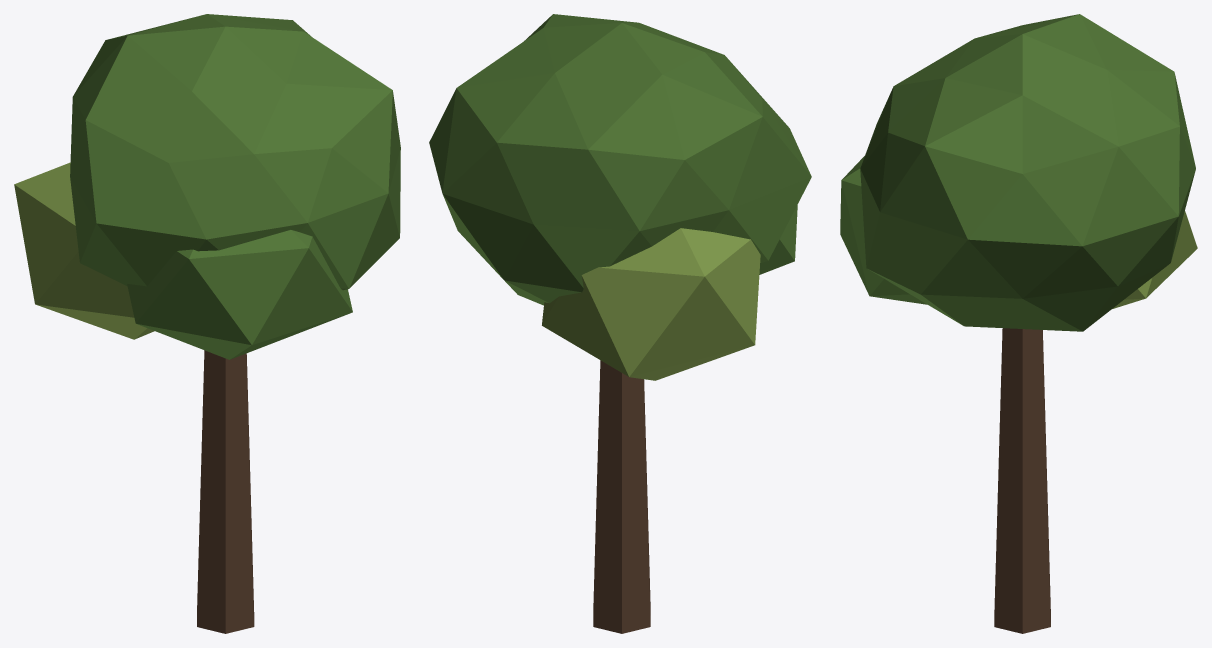
The model's file is Scenery_Broadleaf_B.fbx.
3 renders of one model, left to right at view 1: azimuth 30°, elevation 25°; view 2: azimuth 150°, elevation 25°; view 3: azimuth 270°, elevation 25°, orthographic.
Parts seen in each view (by area): view 1: Scenery_Broadleaf_B; view 2: Scenery_Broadleaf_B; view 3: Scenery_Broadleaf_B.
Part boxes in pixels (x1,y1,x2,y2): Scenery_Broadleaf_B: (14, 14, 400, 633); Scenery_Broadleaf_B: (429, 14, 811, 633); Scenery_Broadleaf_B: (840, 14, 1197, 633).
Bounding box in the file's own units: 3.72 × 6.54 × 3.61.
